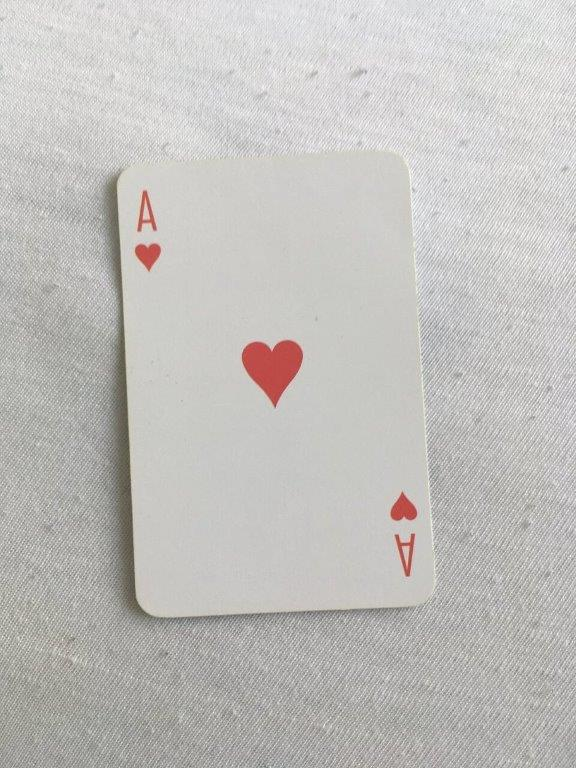AH: (113, 147, 441, 621)
